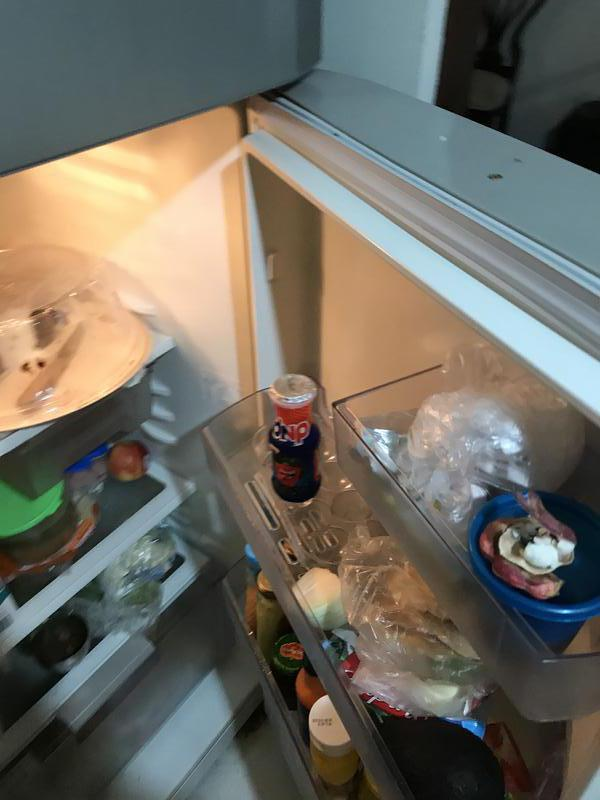danup: (269, 379, 321, 504)
